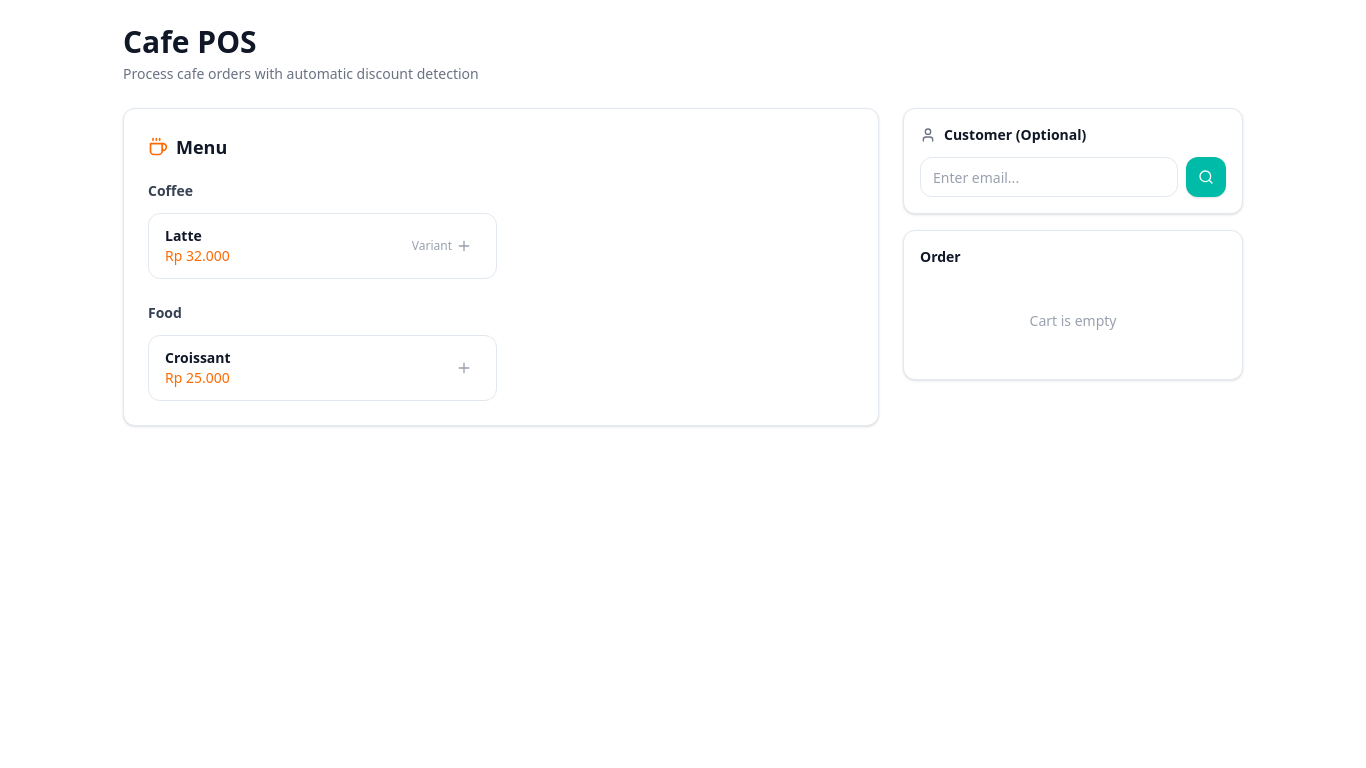
Test: PosClient (AC-101) › AC-719: a variant item exposes its live variantConfig to the picker
This screenshot has width=1366, height=768.
Step 1. Click the button with aria-label "pilih variant latte" → click(442, 246), box [404,232,480,260]
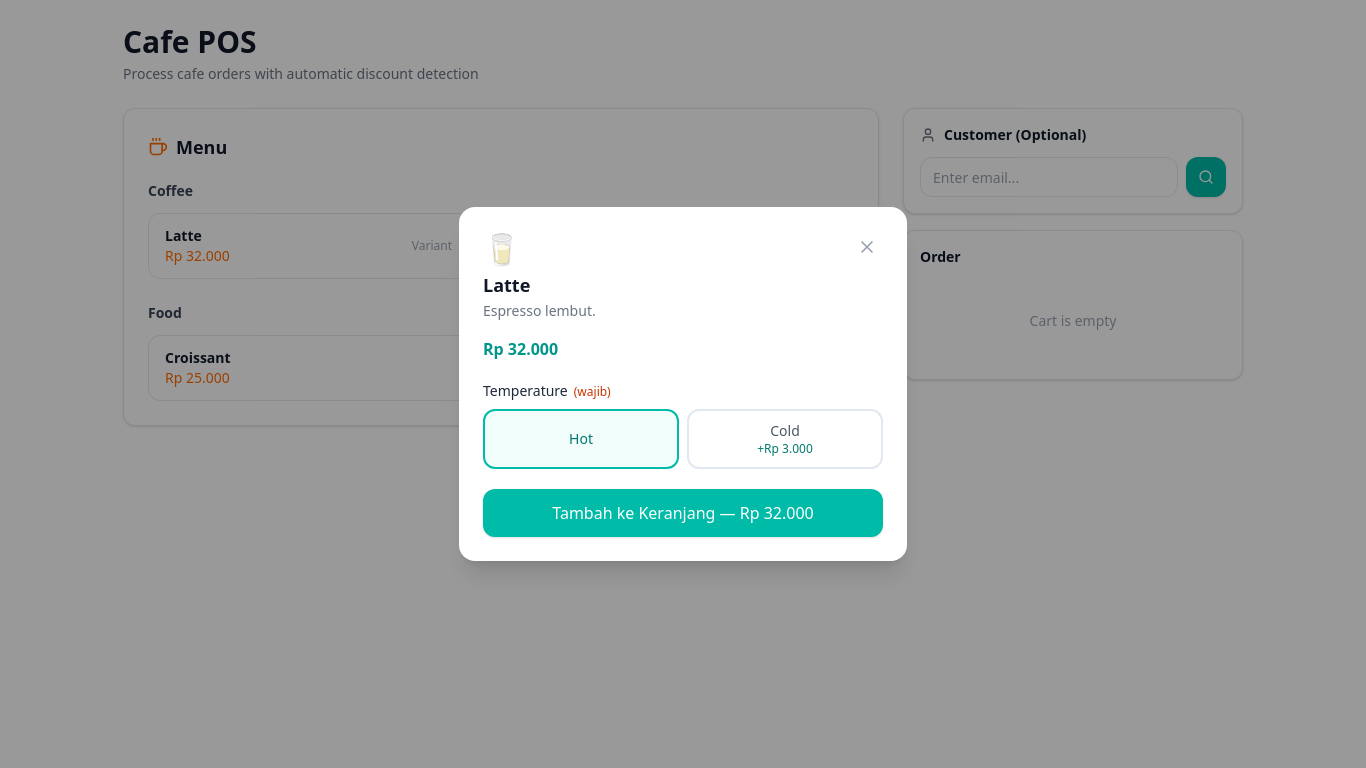
Now the text "Temperature" is shown, box [483,381,568,400]
